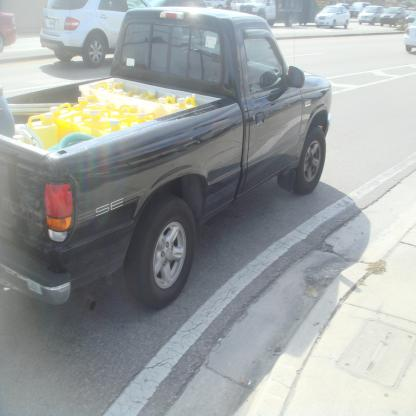Car: (41, 0, 184, 69), (313, 0, 415, 53), (0, 12, 19, 54)
Truck: (0, 7, 332, 309), (237, 0, 304, 28)
